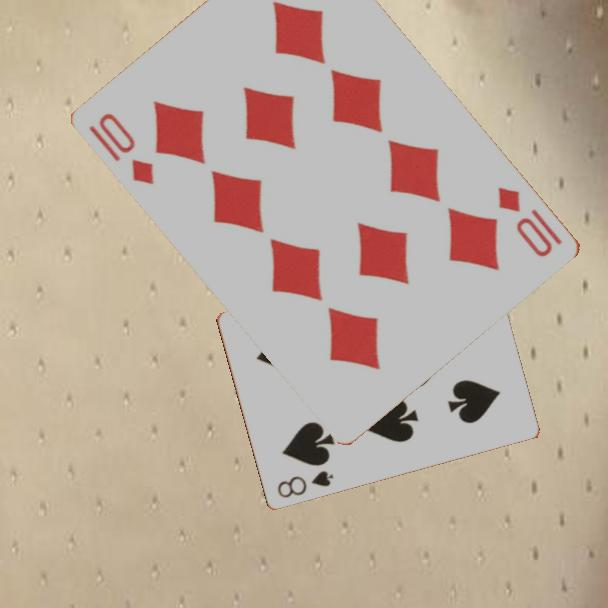d10: (86, 109, 158, 188), (495, 183, 566, 261)
s08: (274, 467, 336, 501)
